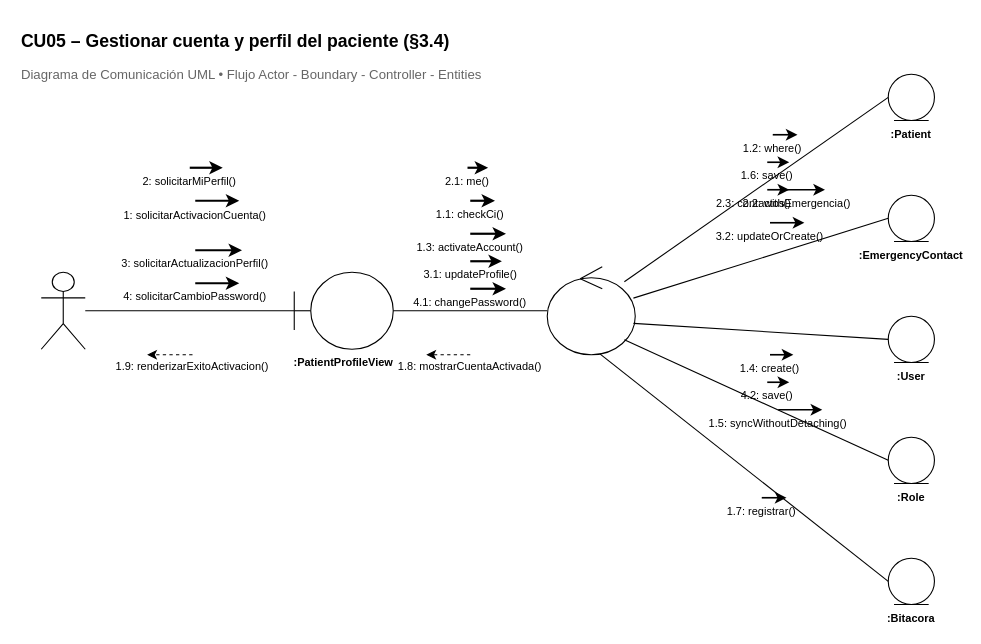
Image size: 981x644. Some labels were removed from this diagram. Here are the shapes that lost their labels. From the top down, the centre of each, then its label:
At (62,310): ":Paciente".
At (590,310): ":PatientProfileController".
